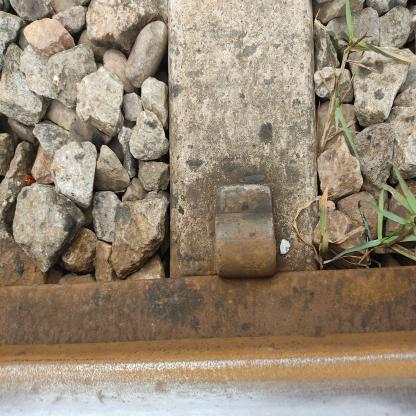Defective 1: (176, 146, 312, 304)
